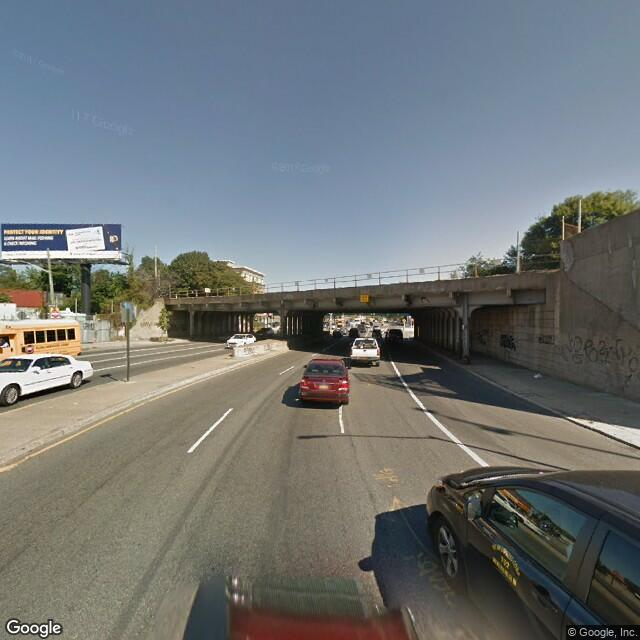litter: (526, 370, 553, 382)
